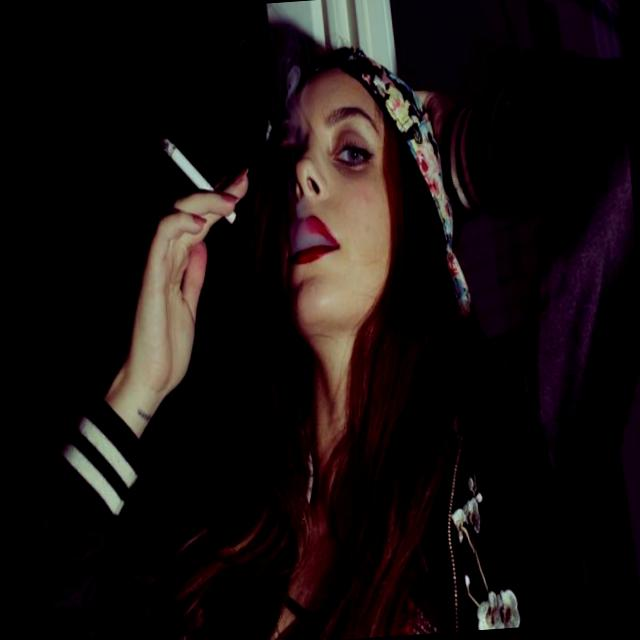smoke: (161, 130, 216, 197)
